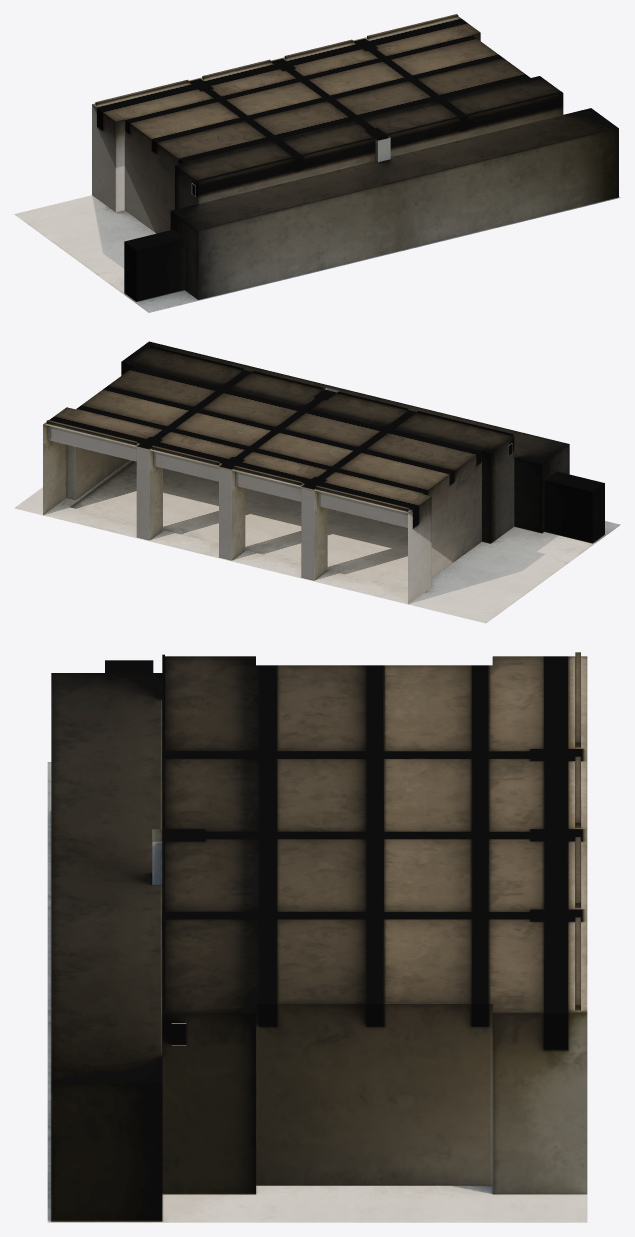
Rendered from brutalist_room.obj.
3 renders of one model, top to bottom at view 1: azimuth 30°, elevation 25°; view 2: azimuth 150°, elevation 25°; view 3: azimuth 270°, elevation 25°, orthographic. The views are drawn at different scales.
Parts seen in each view (by area): view 1: Plane; view 2: Plane; view 3: Plane.
Boxes of the visible parts, <box> form: Plane: <box>14,14,620,312</box>; Plane: <box>14,341,620,623</box>; Plane: <box>47,652,587,1222</box>.
Bounding box in the file's own units: 13.08 × 2.56 × 6.48.
1 material, 1 textured.
